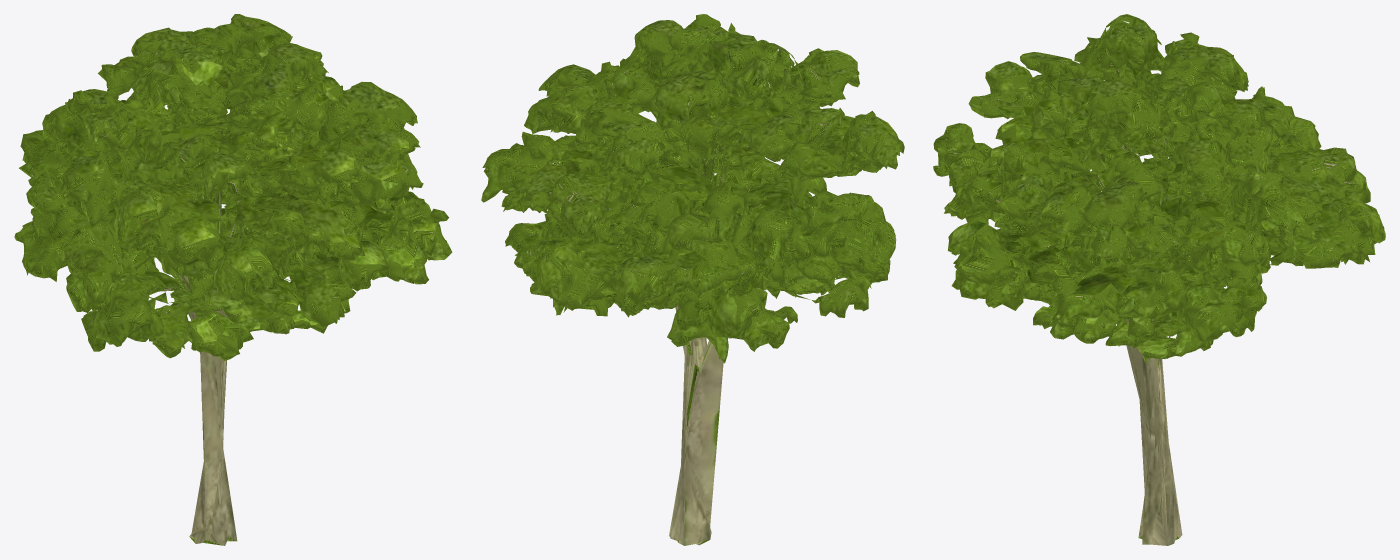
The model's file is lib_tp_hoe.near.glb.
3 views of the same model, side by side, from view 1: azimuth 30°, elevation 25°; view 2: azimuth 150°, elevation 25°; view 3: azimuth 270°, elevation 25° (orthographic). The views are drawn at different scales.
Visible parts, largest first — view 1: mesh_node; view 2: mesh_node; view 3: mesh_node.
Part boxes in pixels (left/top/right/bottom): mesh_node: left=14, top=14, right=452, bottom=545; mesh_node: left=481, top=14, right=904, bottom=545; mesh_node: left=933, top=14, right=1385, bottom=545.
Size of the model in its own units: 1.52 by 1.89 by 1.57.
1 material, 1 textured.
